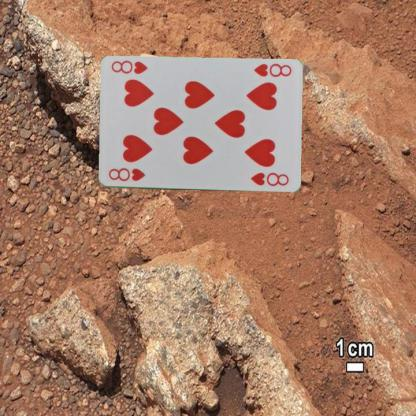8h: (251, 61, 292, 79), (106, 165, 146, 183)
